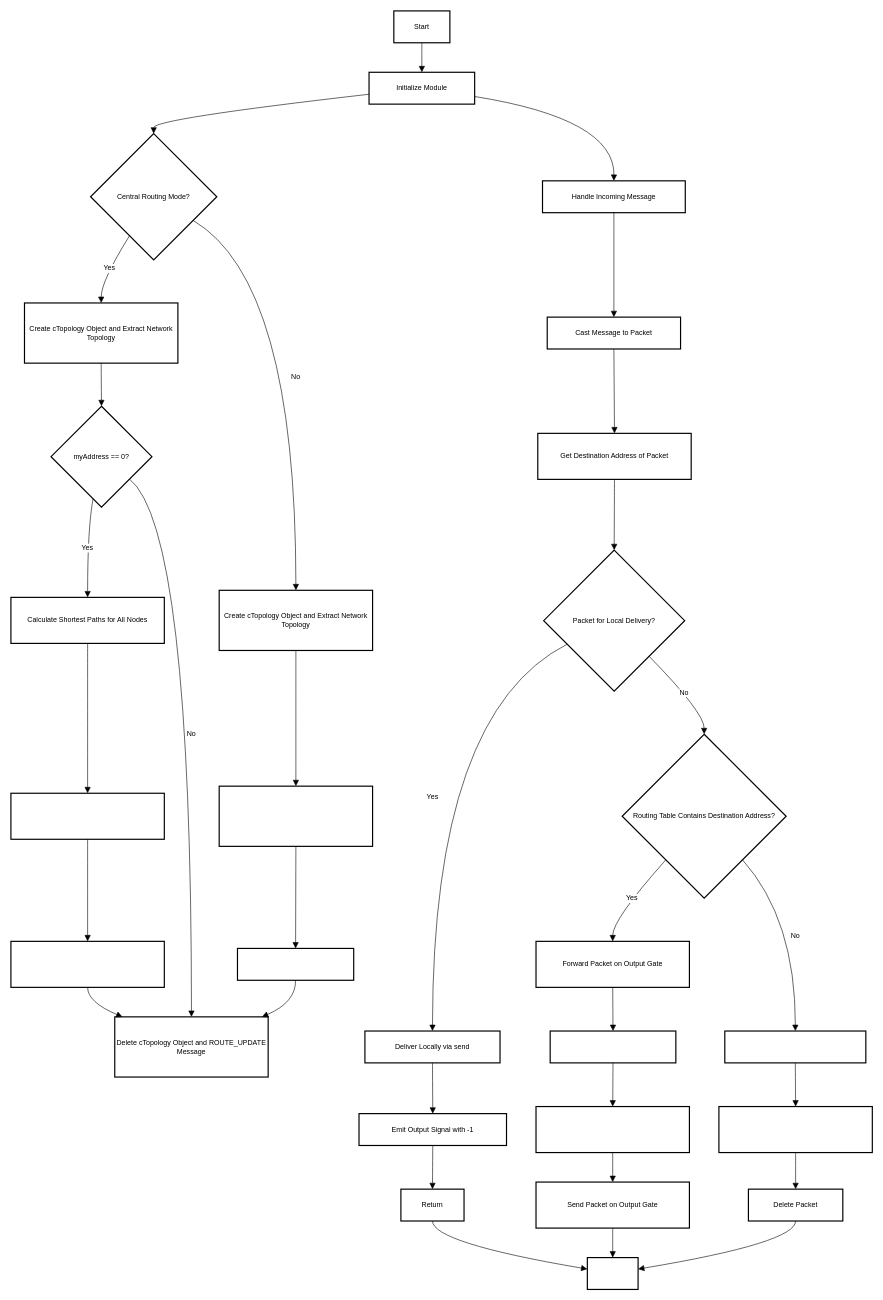
The diagram is 883 pixels wide and 1300 high, and some of its shapes have lost their labels. Each missing label, with the box of its shape:
Broadcast Routing Info to All Nodes: (10, 940, 165, 988)
Build Routing Table: (237, 948, 354, 981)
Calculate Shortest Paths for Each Node Independently: (218, 785, 373, 847)
Emit Drop Signal with Packet Size: (718, 1106, 873, 1153)
Emit Output Signal with Gate Index: (535, 1106, 690, 1153)
End: (586, 1257, 638, 1290)
Increment Hop Count: (549, 1030, 676, 1063)
Log Unreachable Address: (724, 1030, 866, 1063)
Prepare ROUTE_UPDATE Message with Routing Info: (10, 792, 165, 840)
